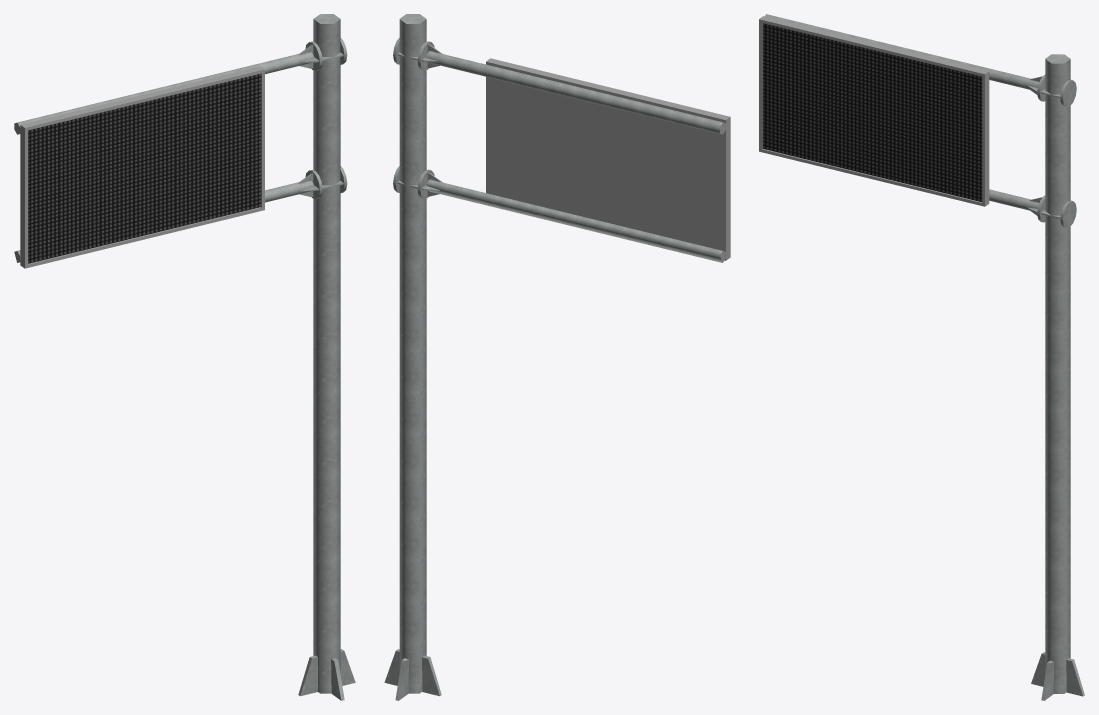
The model's file is cms.gltf.
3 renders of one model, left to right at view 1: azimuth 30°, elevation 25°; view 2: azimuth 150°, elevation 25°; view 3: azimuth 330°, elevation 25°, orthographic. The views are drawn at different scales.
Visible parts, largest first — view 1: LED_P, Cylinder9220; view 2: LED_P, Cylinder9220; view 3: LED_P, Cylinder9220.
Part boxes in pixels (x1=…): LED_P: x1=20, y1=66, x2=264, y2=268; Cylinder9220: x1=14, y1=14, x2=355, y2=700; LED_P: x1=486, y1=58, x2=730, y2=260; Cylinder9220: x1=384, y1=14, x2=725, y2=700; LED_P: x1=759, y1=16, x2=989, y2=206; Cylinder9220: x1=765, y1=14, x2=1084, y2=700.
Size of the model in its own units: 4.22 by 8 by 0.6938.
3 materials, 3 textured.
